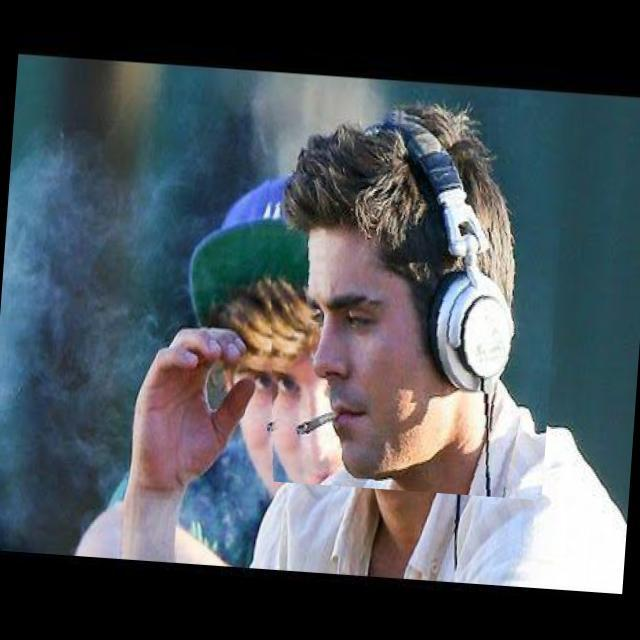cigarette: (249, 387, 319, 454)
